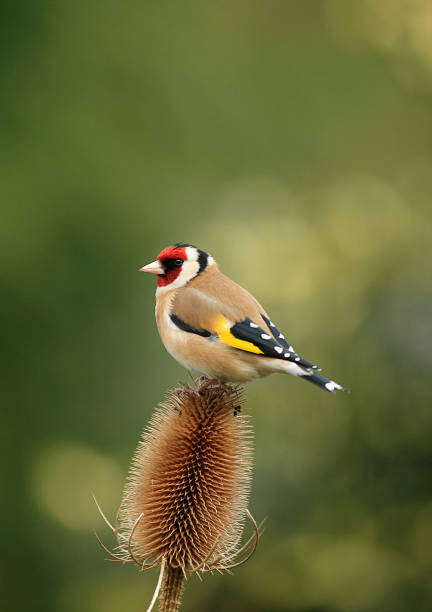Bird: (138, 244, 348, 405)
